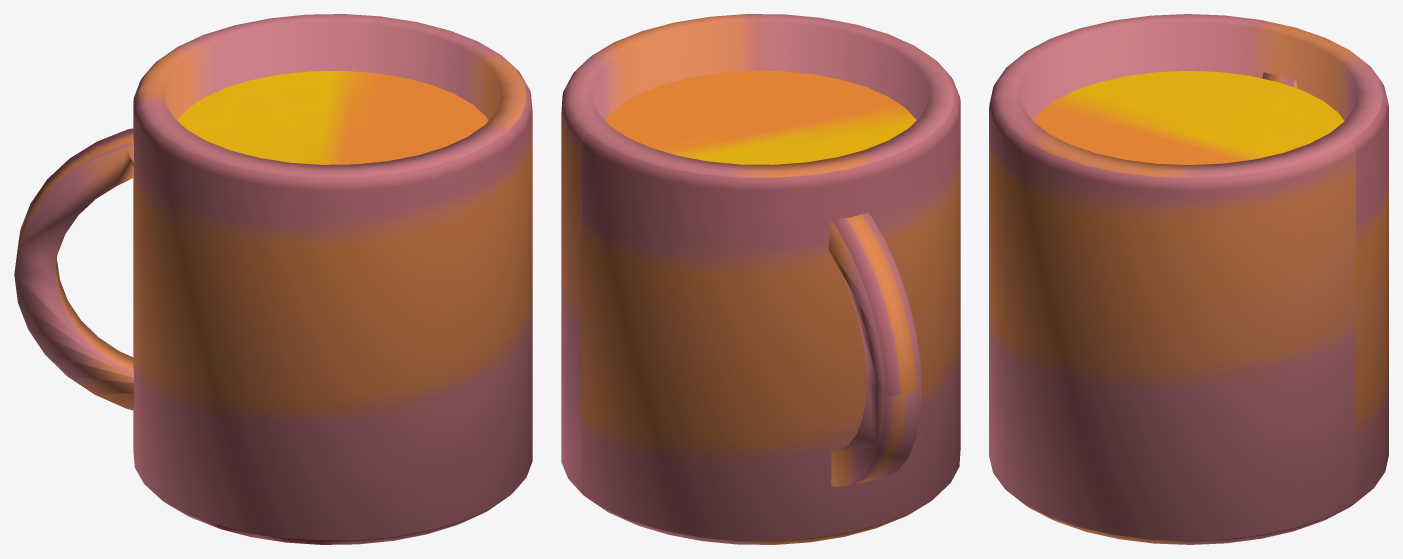
The model's file is cup man.fbx.
3 renders of one model, left to right at view 1: azimuth 30°, elevation 25°; view 2: azimuth 150°, elevation 25°; view 3: azimuth 270°, elevation 25°, orthographic.
Parts seen in each view (by area): view 1: Cylinder.004; view 2: Cylinder.004; view 3: Cylinder.004.
Part boxes in pixels (x1,y1,x2,y2): Cylinder.004: (14, 14, 532, 544); Cylinder.004: (561, 14, 960, 544); Cylinder.004: (989, 14, 1388, 544).
Size of the model in its own units: 37.46 by 32.79 by 31.42.
